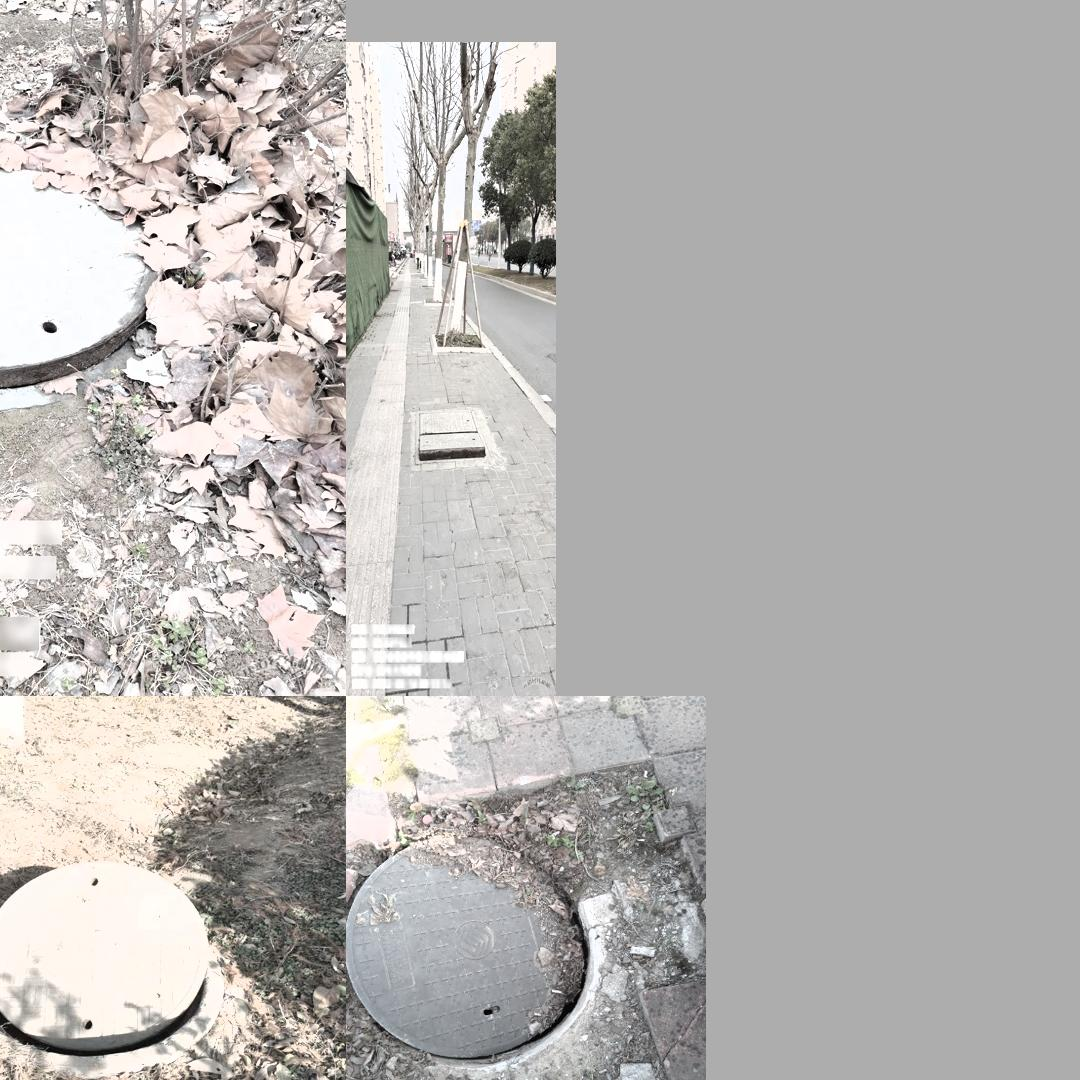uncovered: (346, 823, 600, 1066), (0, 152, 176, 393), (0, 858, 216, 1053), (415, 405, 490, 465)
